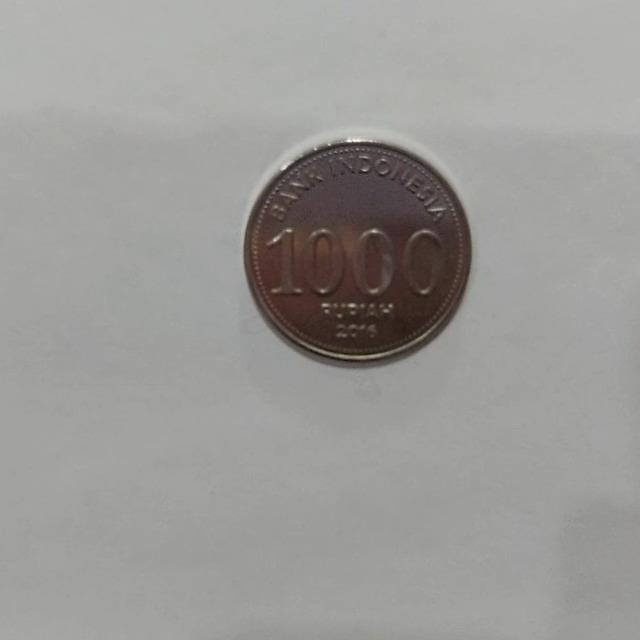Rp100: (240, 130, 473, 367)
